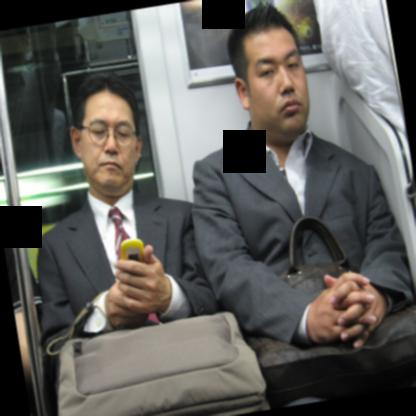handbag: (242, 214, 416, 408), (57, 310, 269, 416)
